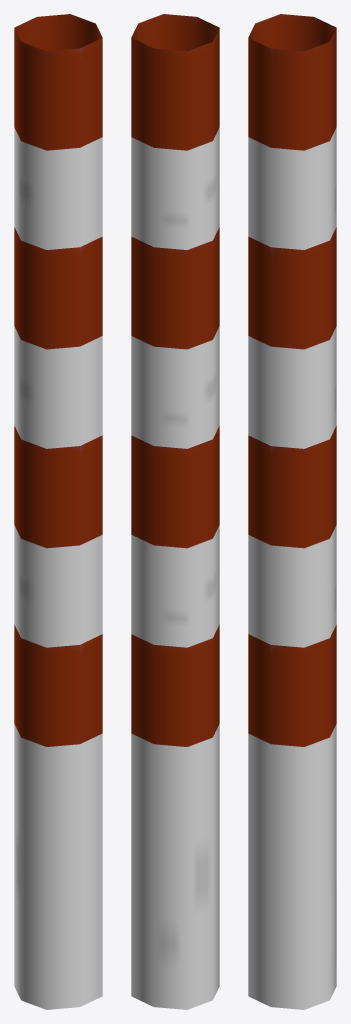
Rendered from Factory_Tube_01.glb.
The picture shows the model from 3 angles, left to right: view 1: azimuth 30°, elevation 25°; view 2: azimuth 150°, elevation 25°; view 3: azimuth 330°, elevation 25°; orthographic projection.
Parts seen in each view (by area): view 1: factory_tube_01_geo; view 2: factory_tube_01_geo; view 3: factory_tube_01_geo.
Part boxes in pixels (<box>): factory_tube_01_geo: <box>14,14,102,1009</box>; factory_tube_01_geo: <box>131,14,219,1009</box>; factory_tube_01_geo: <box>248,14,336,1009</box>.
Size of what is drawn, in the model's own units: 1.24 by 15.22 by 1.24.
Materials: 1 (1 with a texture image).
